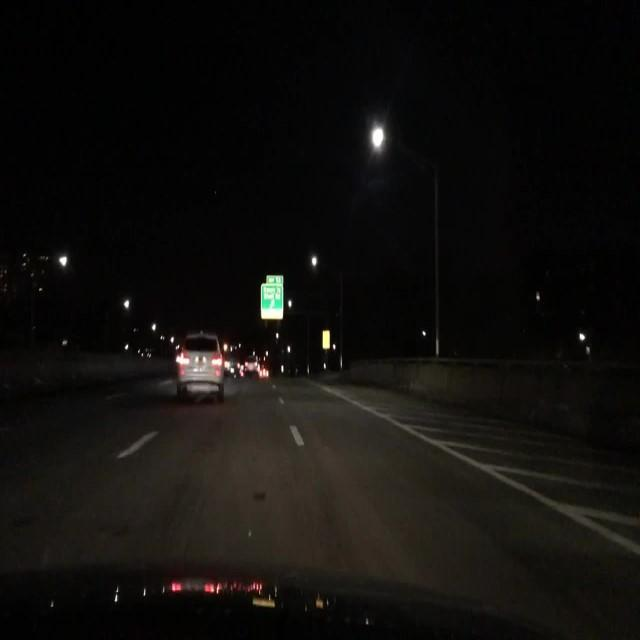normal: (145, 307, 228, 423)
